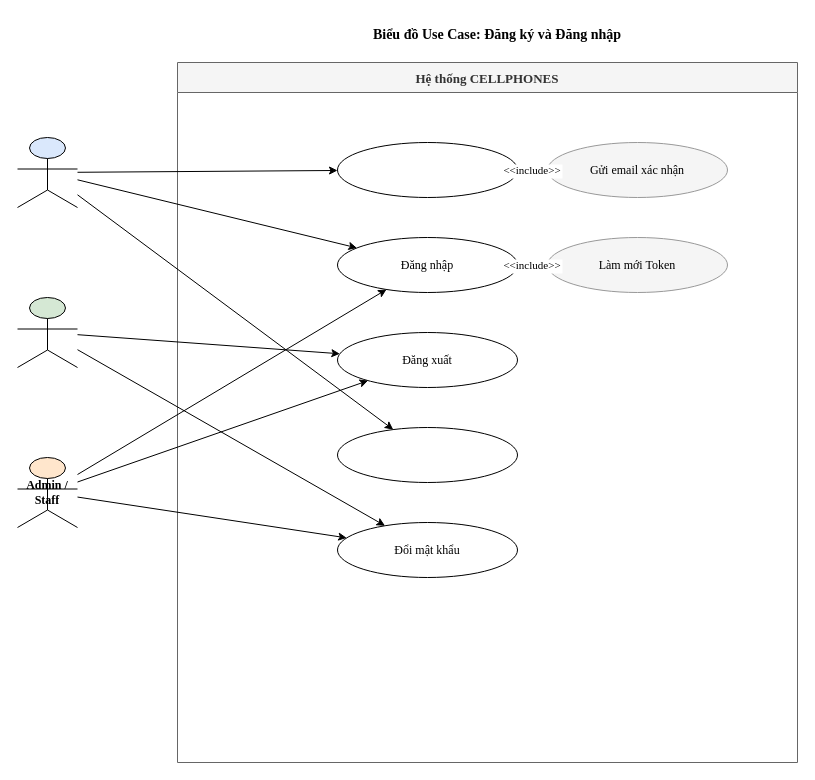
Some shapes in this 815 by 780 pixel diagram are drawn without their labels. Each missing label, with the centre of its shape:
"Customer" belongs at (x=47, y=332).
"Guest" belongs at (x=47, y=172).
"Quên mật khẩu" belongs at (x=427, y=454).
"Đăng ký tài khoản" belongs at (x=427, y=170).
